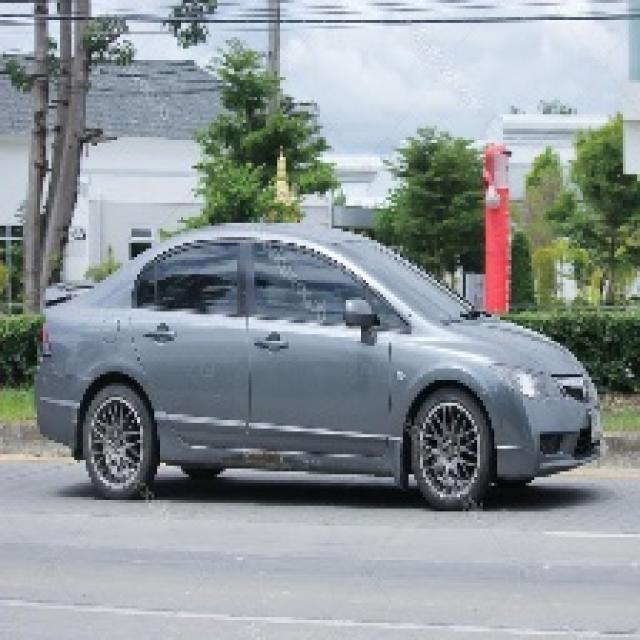car: (34, 232, 612, 493)
